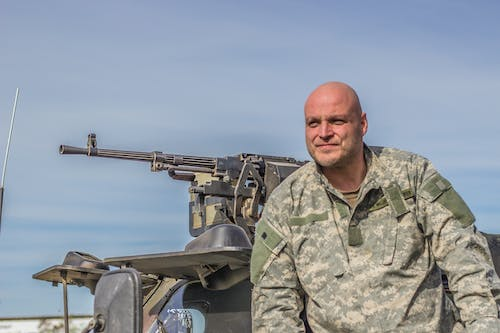gun: (56, 132, 312, 206)
